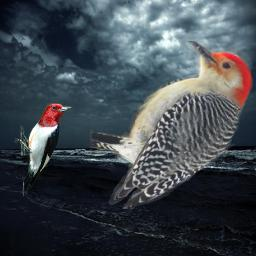Woodpecker: (84, 41, 253, 209), (14, 103, 73, 197)
